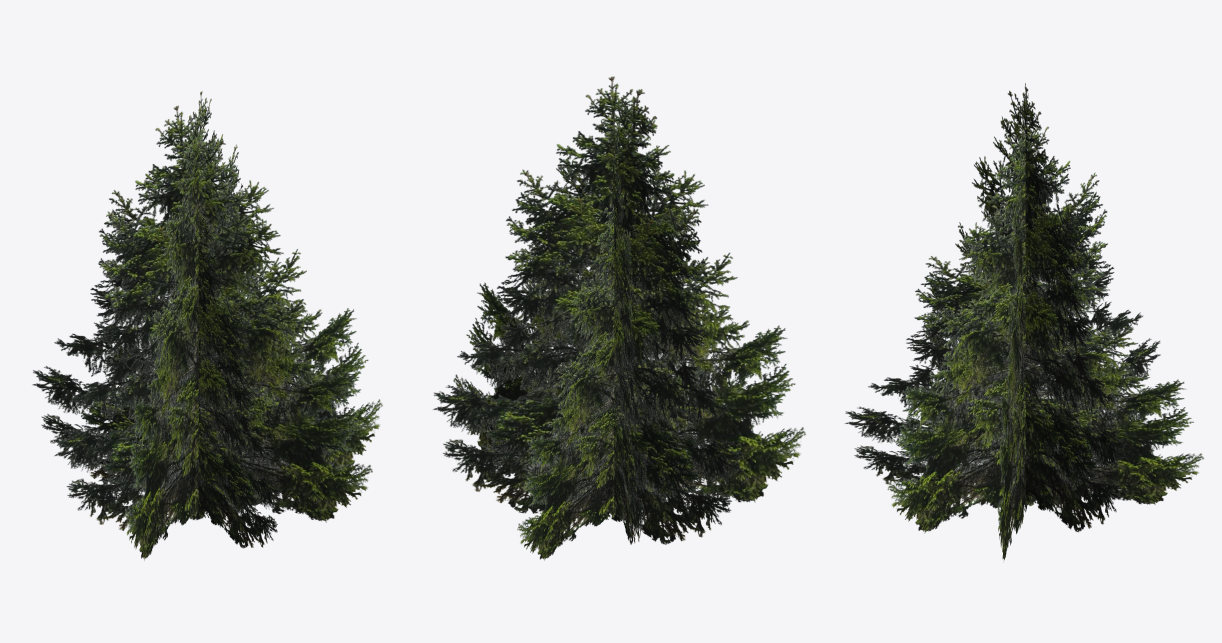
Rendered from treebillboard-transformed.glb.
3 views of the same model, side by side, from view 1: azimuth 30°, elevation 25°; view 2: azimuth 150°, elevation 25°; view 3: azimuth 270°, elevation 25° (orthographic). The views are drawn at different scales.
Visible parts, largest first — view 1: pine1_pine2_0; view 2: pine1_pine2_0; view 3: pine1_pine2_0.
Part boxes in pixels (box(x1,y1,x2,y2)): pine1_pine2_0: box(32, 91, 382, 560); pine1_pine2_0: box(433, 76, 805, 560); pine1_pine2_0: box(844, 83, 1204, 560).
Size of the model in its own units: 34.42 by 46.85 by 30.97.
1 material, 1 textured.
